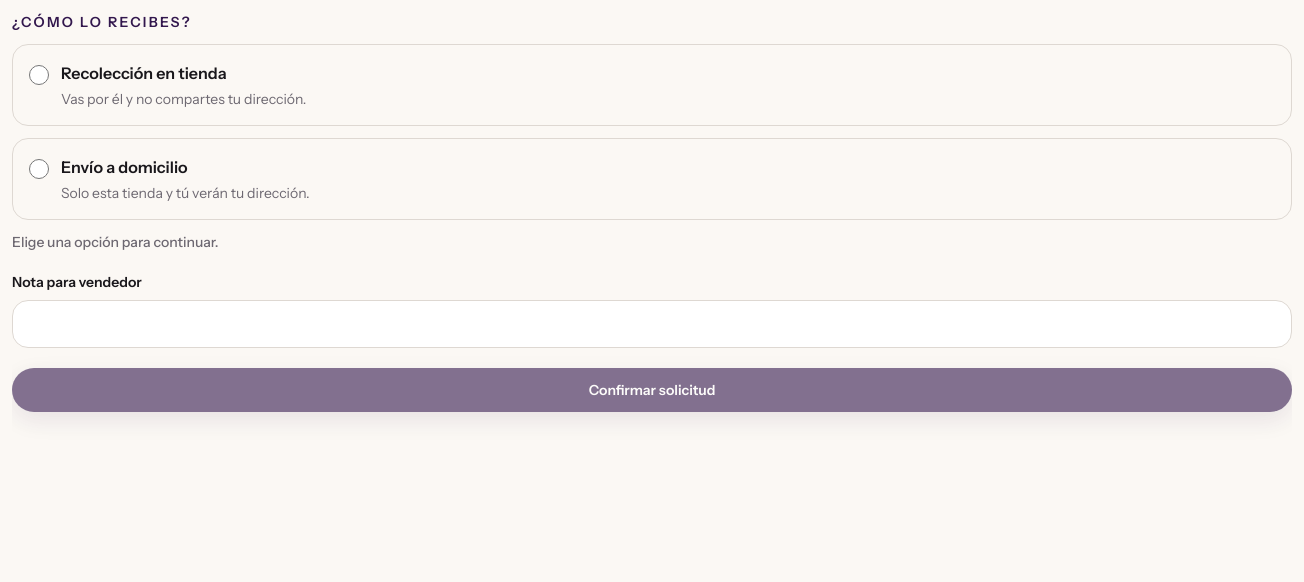
FulfillmentChoice › sends pickup to the thread when the shop has no pickup point
The width and height of the screenshot is (1304, 582).
Click the radio button labelled "Recolección en tienda" at (39,75), box [29, 65, 49, 85]
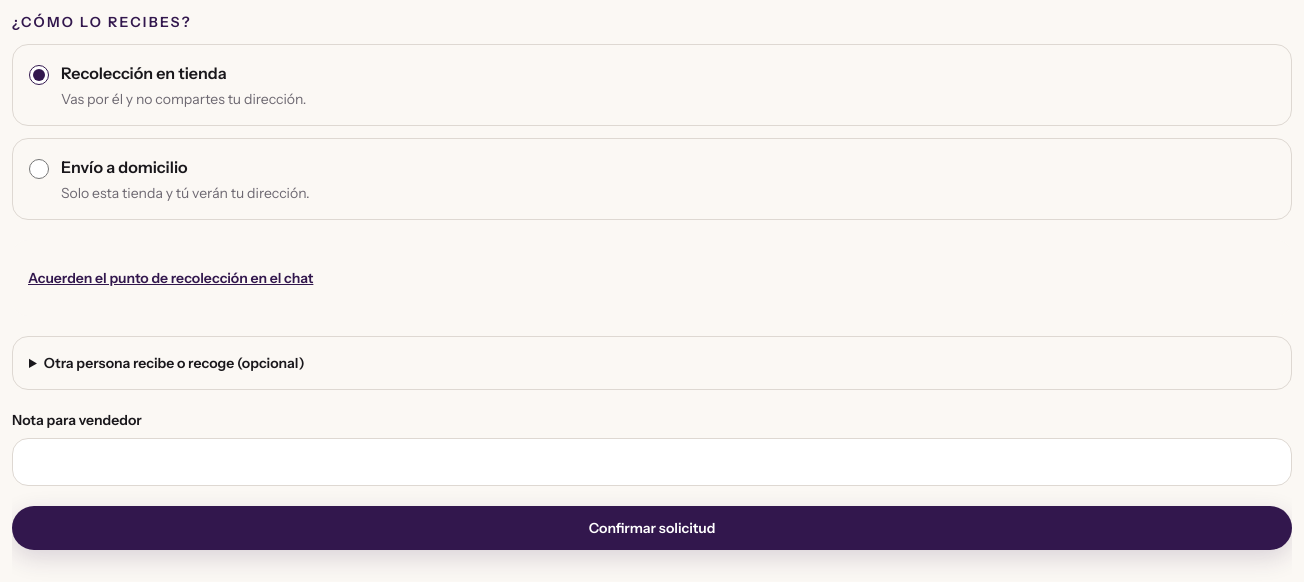
Check: the link "Acuerden el punto de recolección en el chat" is shown, box [28, 269, 313, 287]
